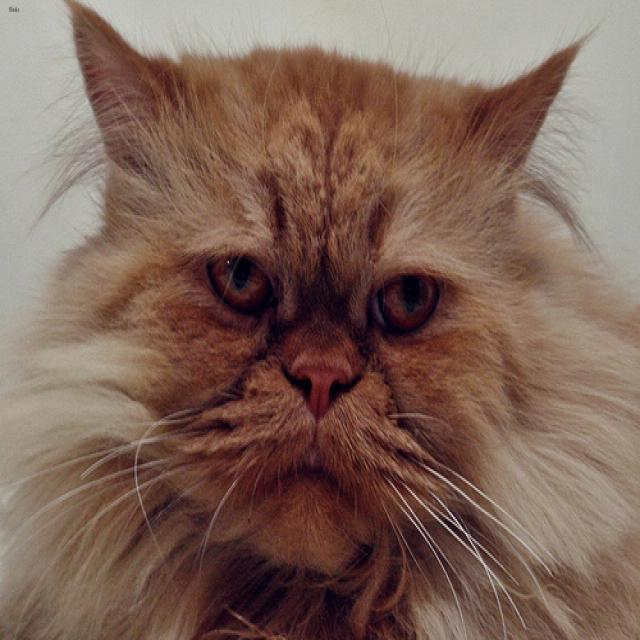Persian: (67, 0, 577, 561)
